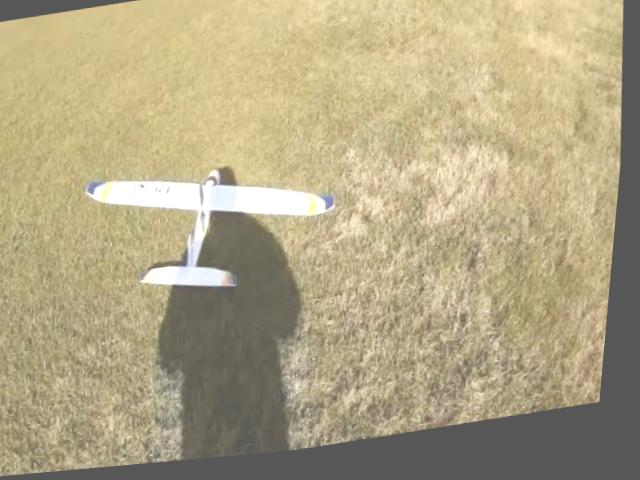uav: (77, 135, 359, 326)
